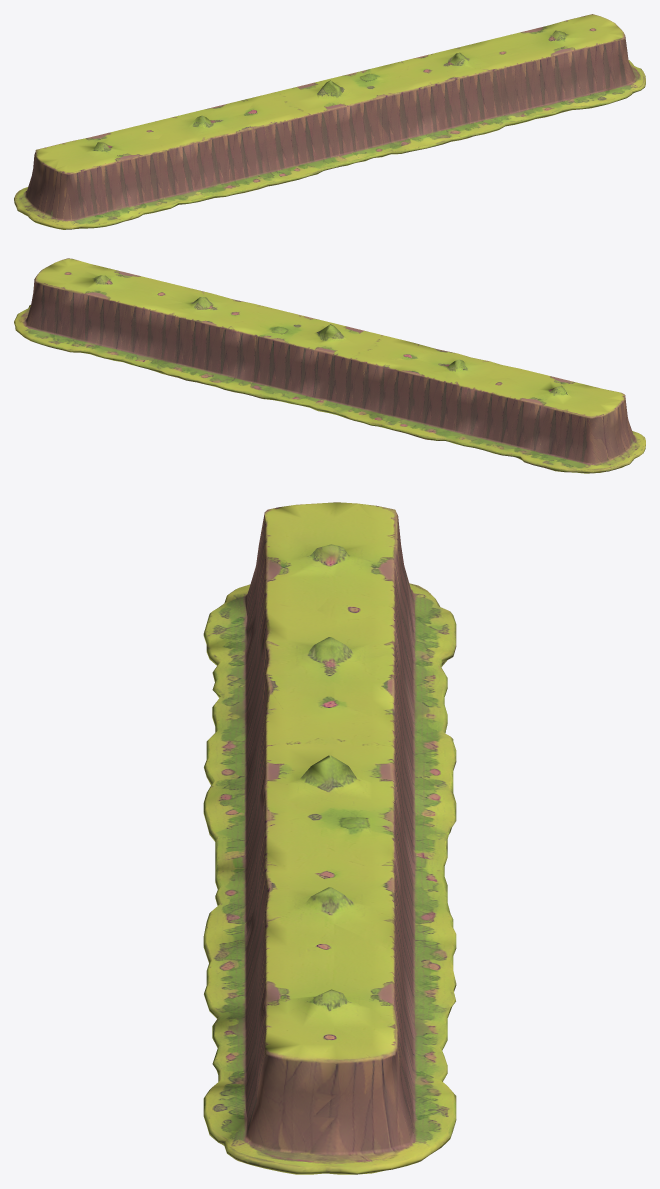
The model's file is hill_wall.fbx.
The picture shows the model from 3 angles, top to bottom: view 1: azimuth 30°, elevation 25°; view 2: azimuth 150°, elevation 25°; view 3: azimuth 270°, elevation 25°; orthographic projection. The views are drawn at different scales.
Parts seen in each view (by area): view 1: mesh_node; view 2: mesh_node; view 3: mesh_node.
Part boxes in pixels (left/top/right/bottom): mesh_node: left=14, top=14, right=645, bottom=229; mesh_node: left=14, top=258, right=645, bottom=473; mesh_node: left=203, top=502, right=456, bottom=1174.
Size of the model in its own units: 4145 by 400 by 740.
Materials: 1 (1 with a texture image).
